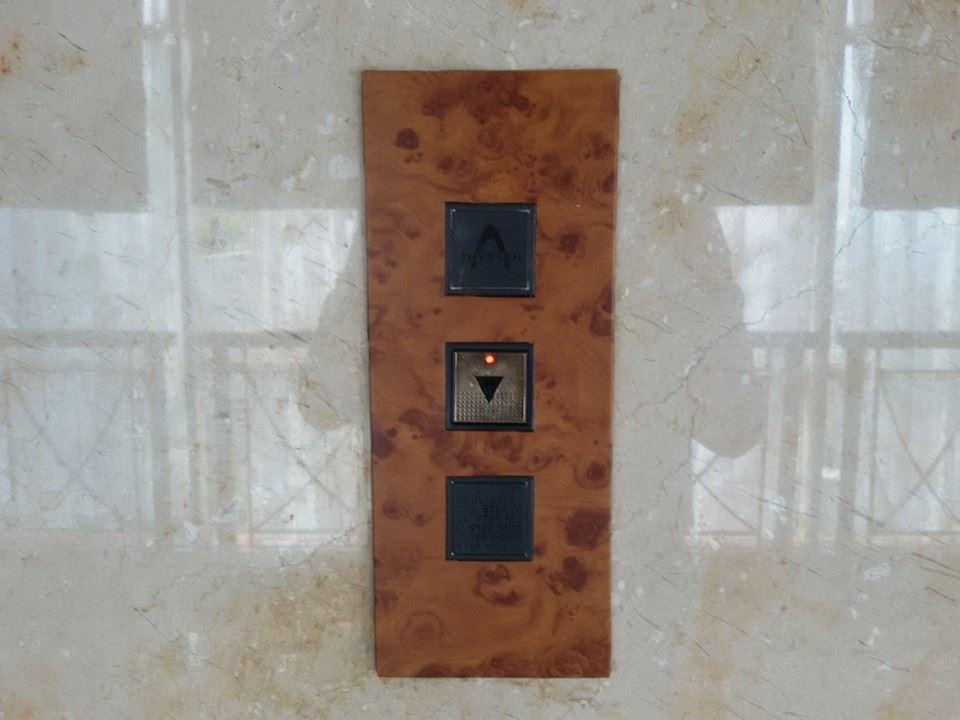down: (441, 337, 535, 436)
empty: (440, 470, 537, 563)
up: (439, 197, 540, 300)
